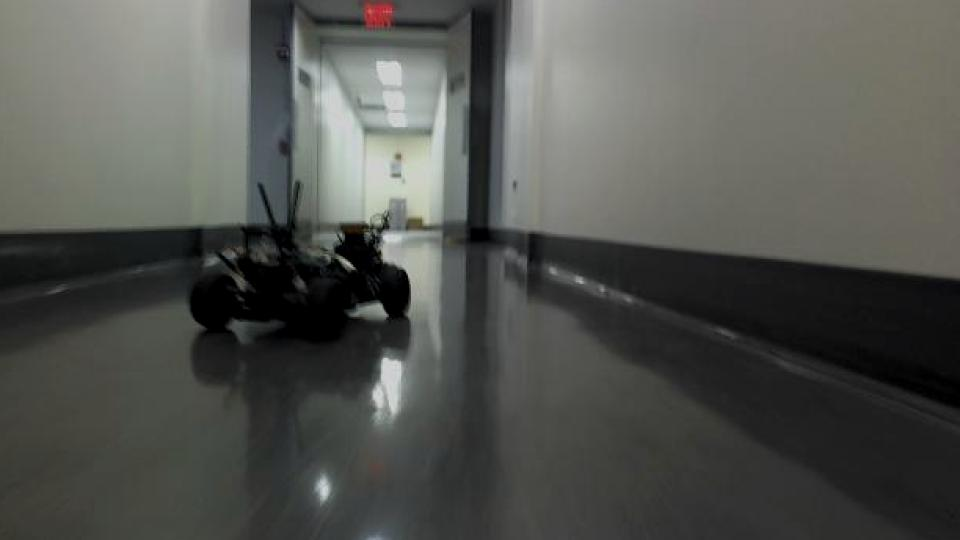car: (185, 178, 413, 346)
